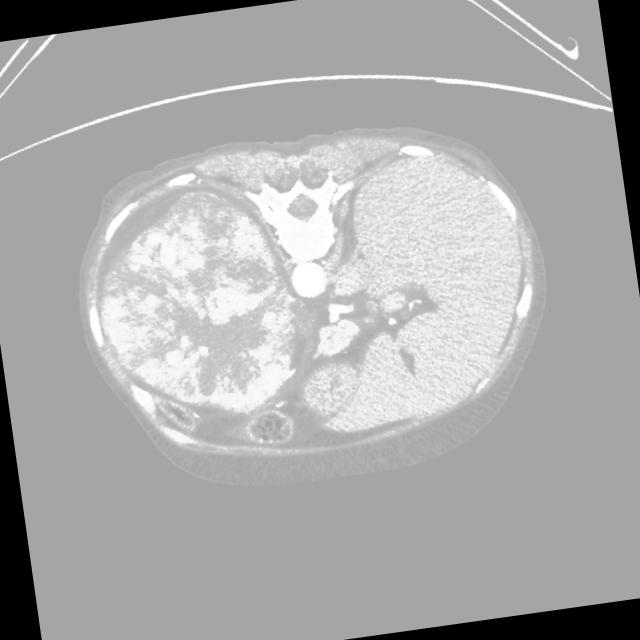TUMOR: (53, 140, 434, 417)
